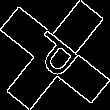P_SE: (24, 25, 86, 85)
